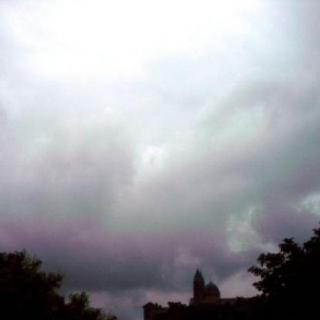Cumulus: (0, 2, 320, 284)
